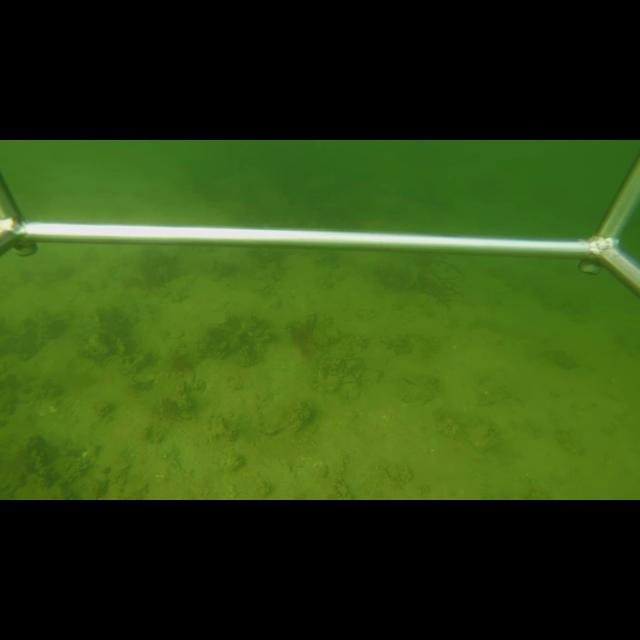Oyster-Closed: (258, 390, 310, 438)
